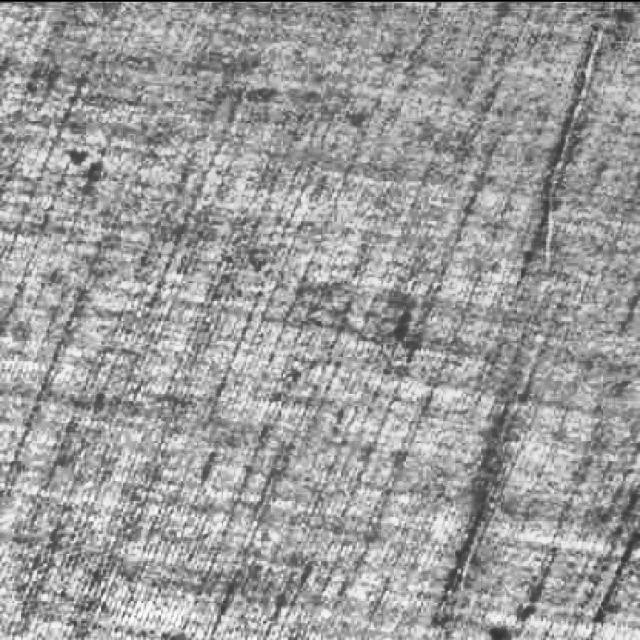objects: (517, 4, 627, 292)
